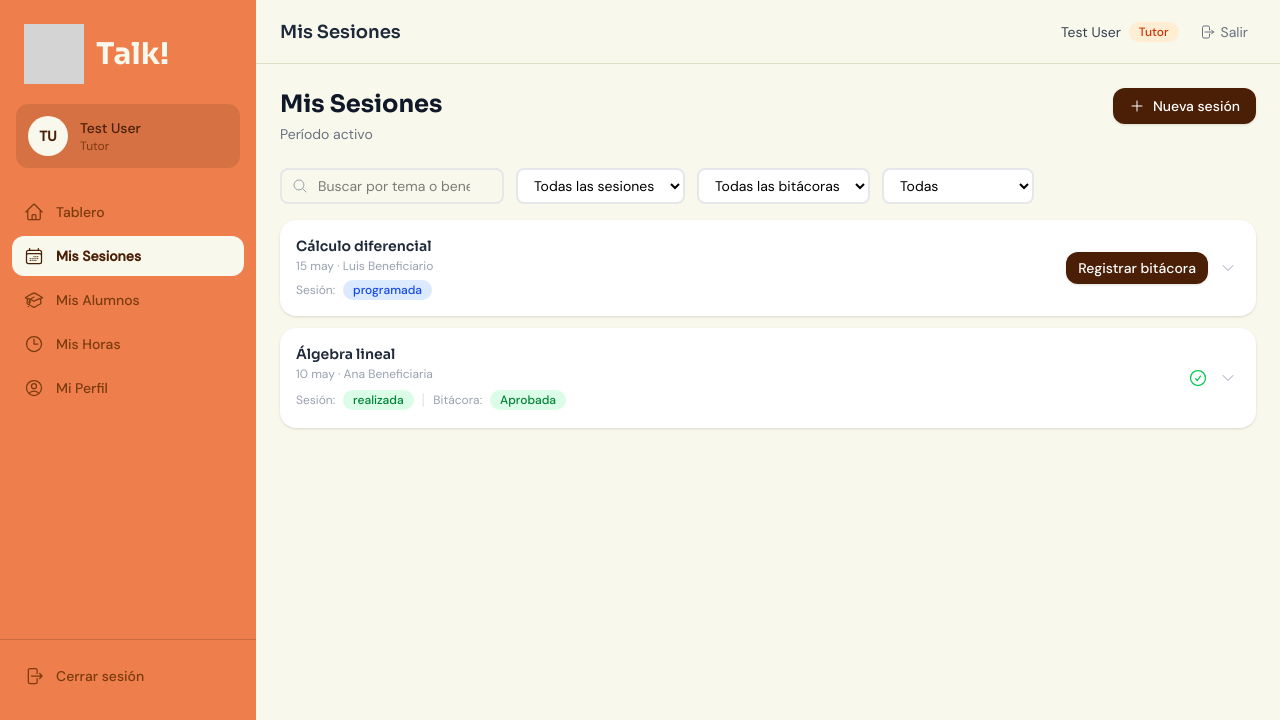
Test: TC-01: Lista de sesiones del tutor con datos › muestra "Ver bitácora" en sesión con bitácora y "Registrar bitácora" en sesión sin bitácora
// 'Ver bitácora' solo aparece en el panel expandido del acordeón
Click the button "Álgebra lineal" at (346, 354), box [296,344,1176,412]
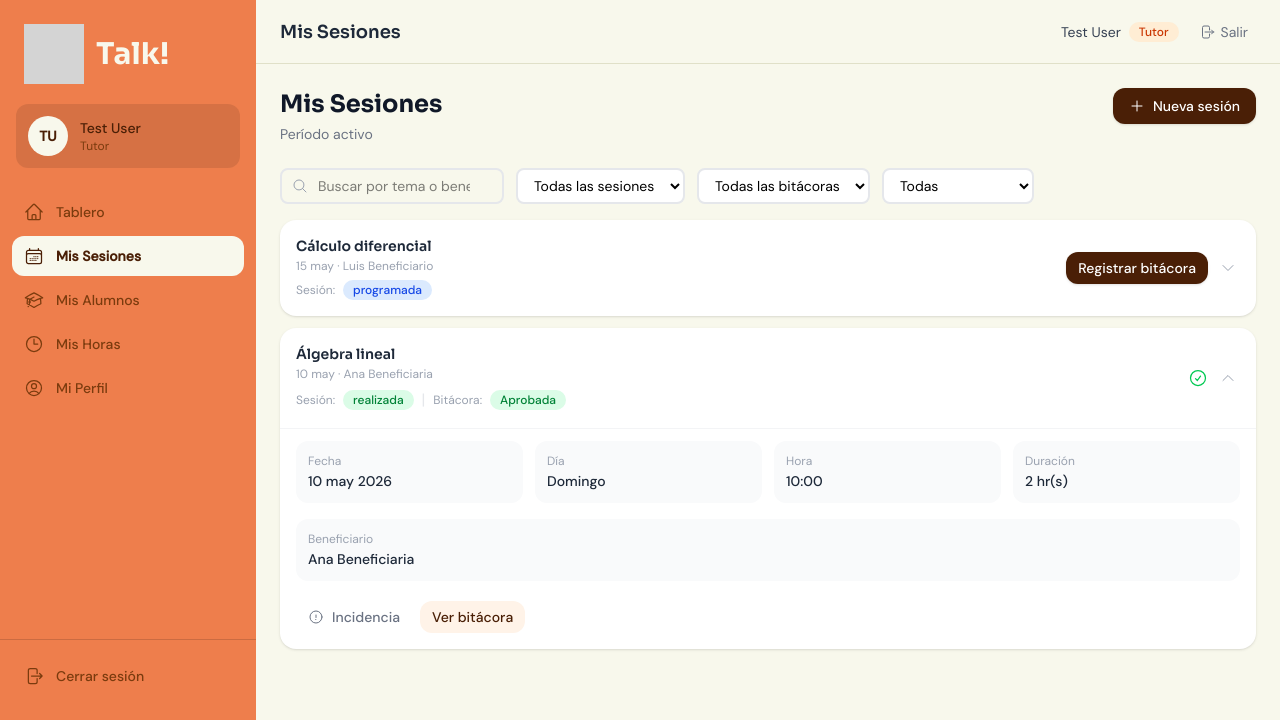
Expected: the button "Registrar bitácora" is shown, [1066,252,1208,284]
Expected: the button "Ver bitácora" is shown, [420,601,525,633]
